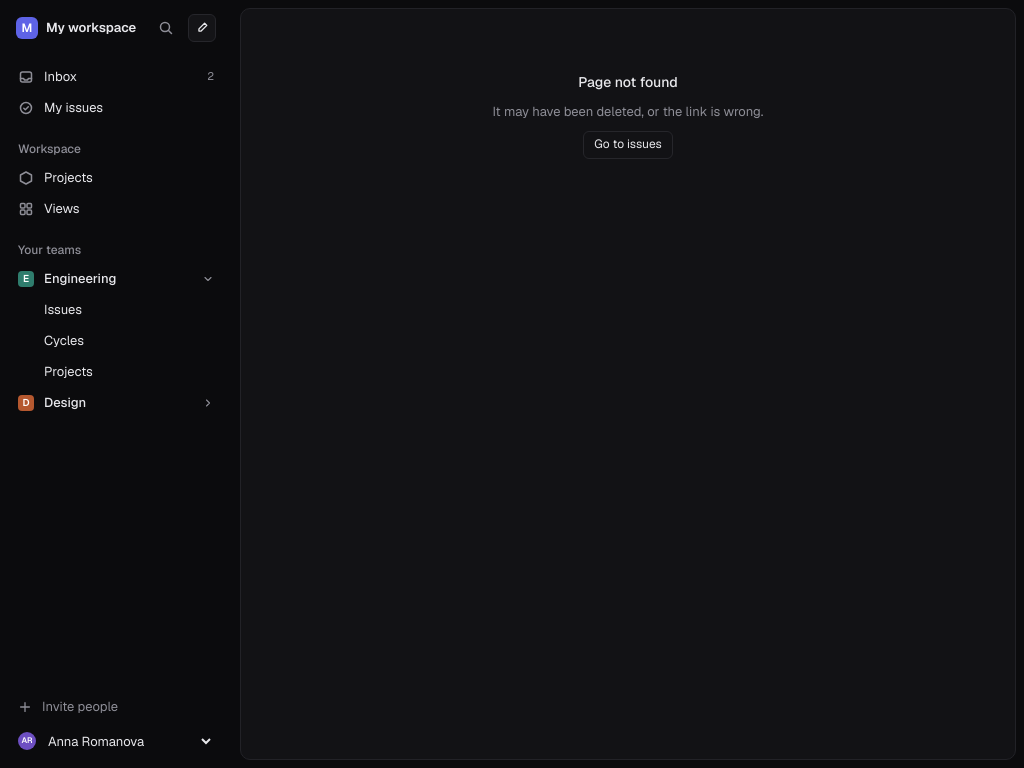
it: NewIssueModal › keeps the dialog open and shows the server error
Click the button named "New issue". click: (202, 28)
box: [188,14,216,42]
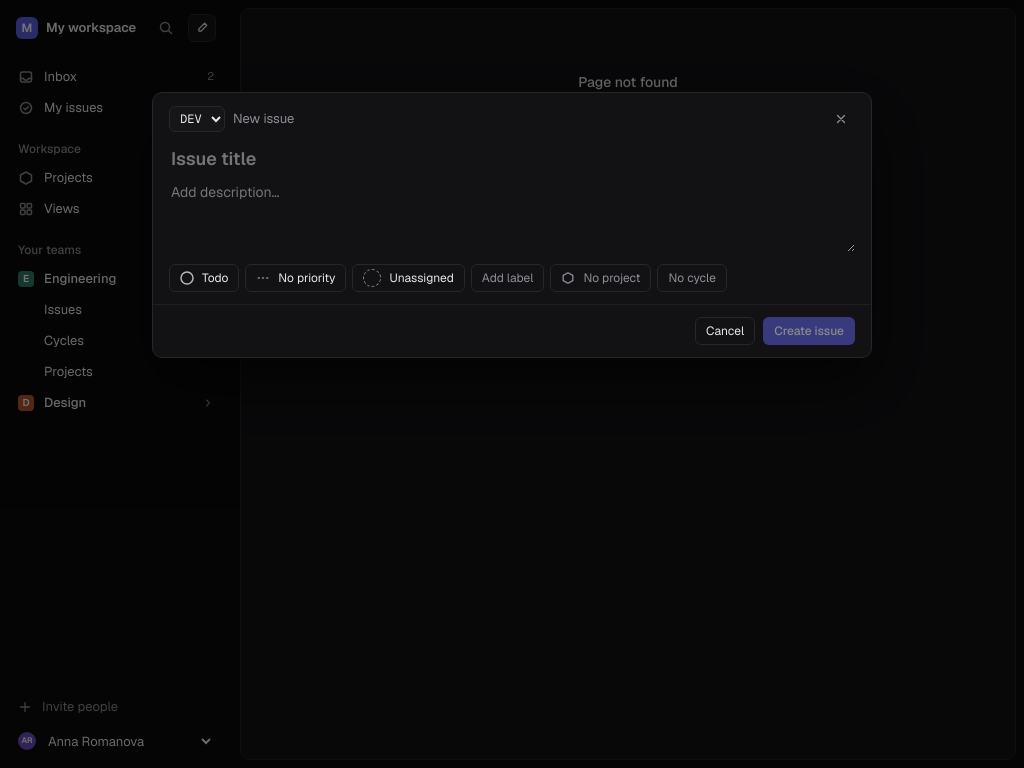
Type "Broken" into the field labelled "Issue title". click: (512, 159)
box: [169,145,855,172]
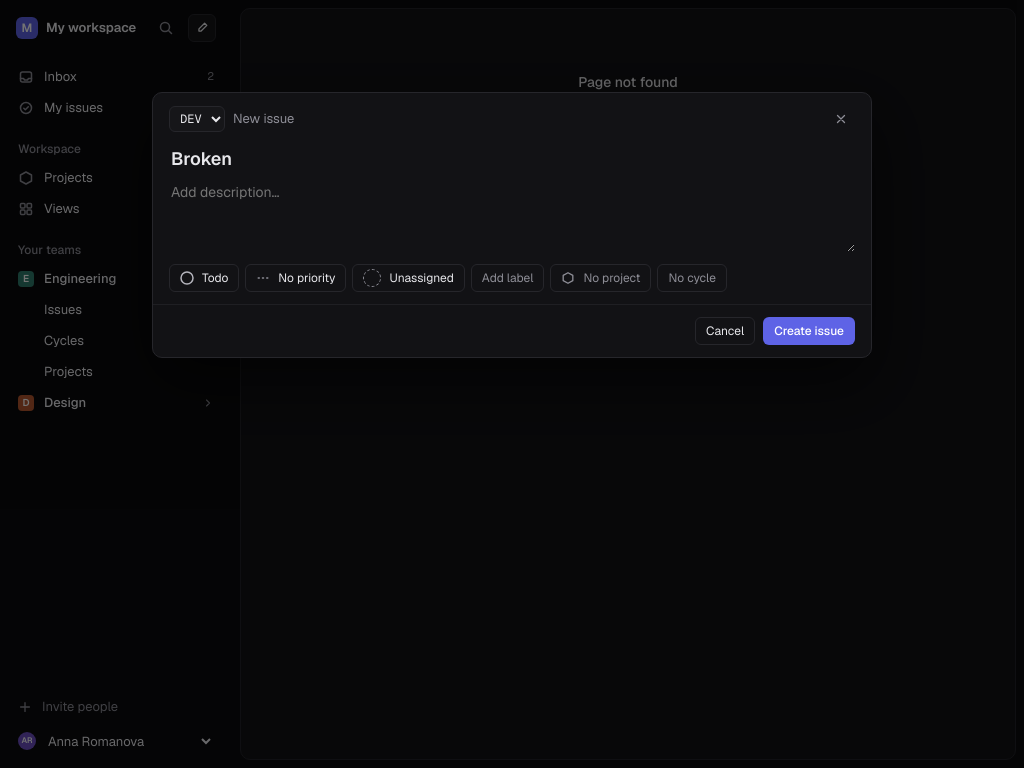
Click the button "Create issue". click: (809, 331)
box: [763,317,855,345]
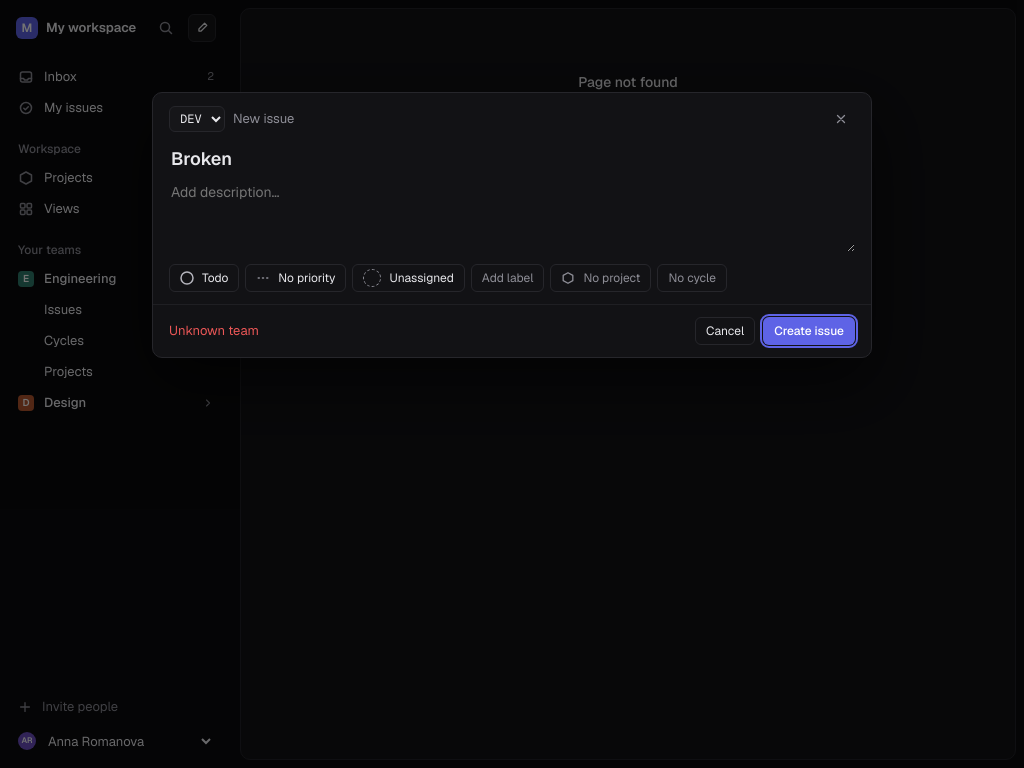
Now the dialog "New issue" is shown, box [152,92,872,358]
Now the text "Unknown team" is shown, box [169,322,259,339]
